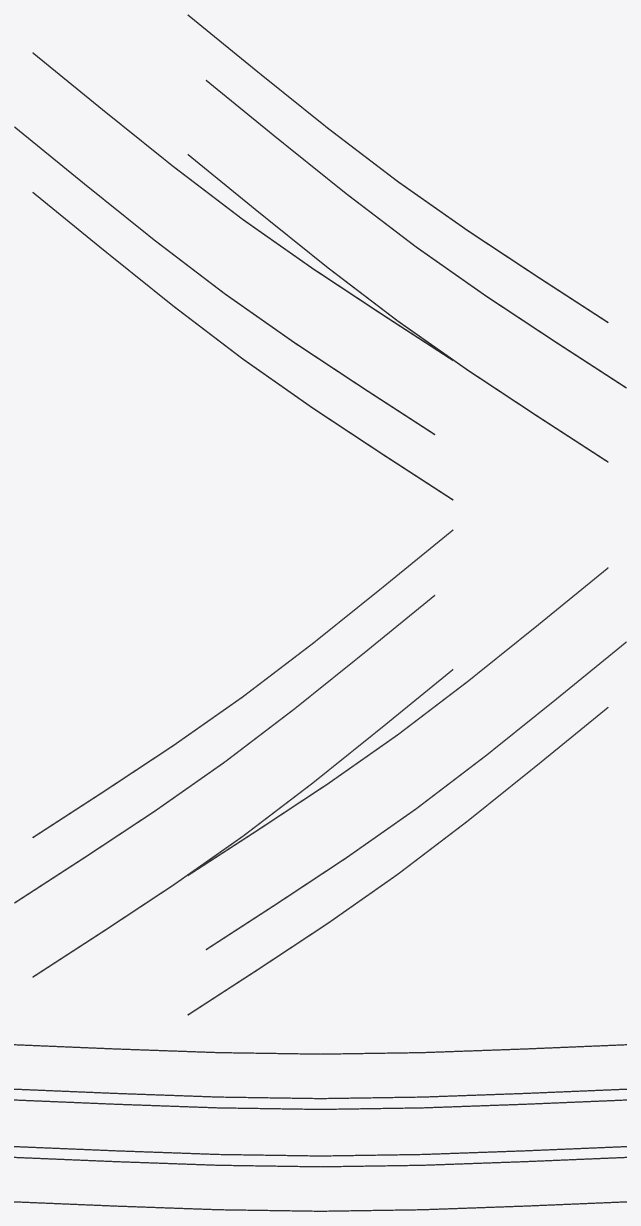
File: SM_Props_Industrial_TransmissionTower_Line.fbx
3 renders of one model, top to bottom at view 1: azimuth 30°, elevation 25°; view 2: azimuth 150°, elevation 25°; view 3: azimuth 270°, elevation 25°, orthographic. The views are drawn at different scales.
Visible parts, largest first — view 1: SM_Props_Industrial_TransmissionTower_Line; view 2: SM_Props_Industrial_TransmissionTower_Line; view 3: SM_Props_Industrial_TransmissionTower_Line.
Part boxes in pixels (x1,y1,x2,y2): SM_Props_Industrial_TransmissionTower_Line: (14, 14, 626, 500); SM_Props_Industrial_TransmissionTower_Line: (14, 529, 626, 1015); SM_Props_Industrial_TransmissionTower_Line: (14, 1044, 626, 1211).
Bounding box in the file's own units: 1594 × 1216 × 6000.
